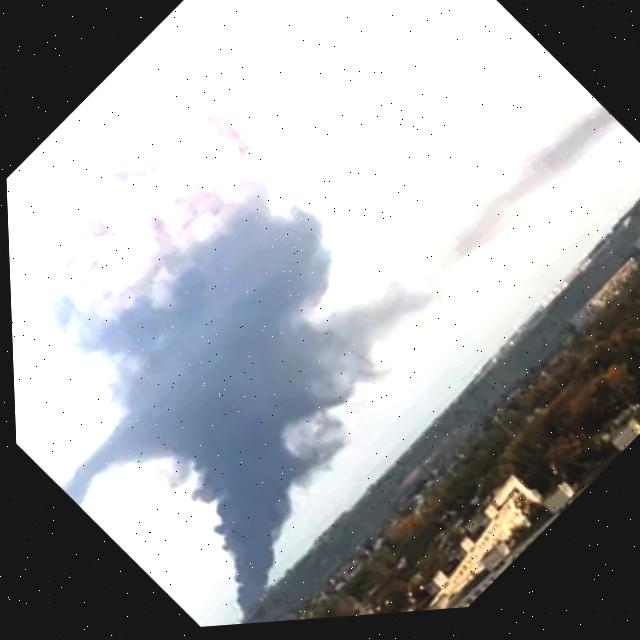Smoke: (1, 11, 481, 559)
